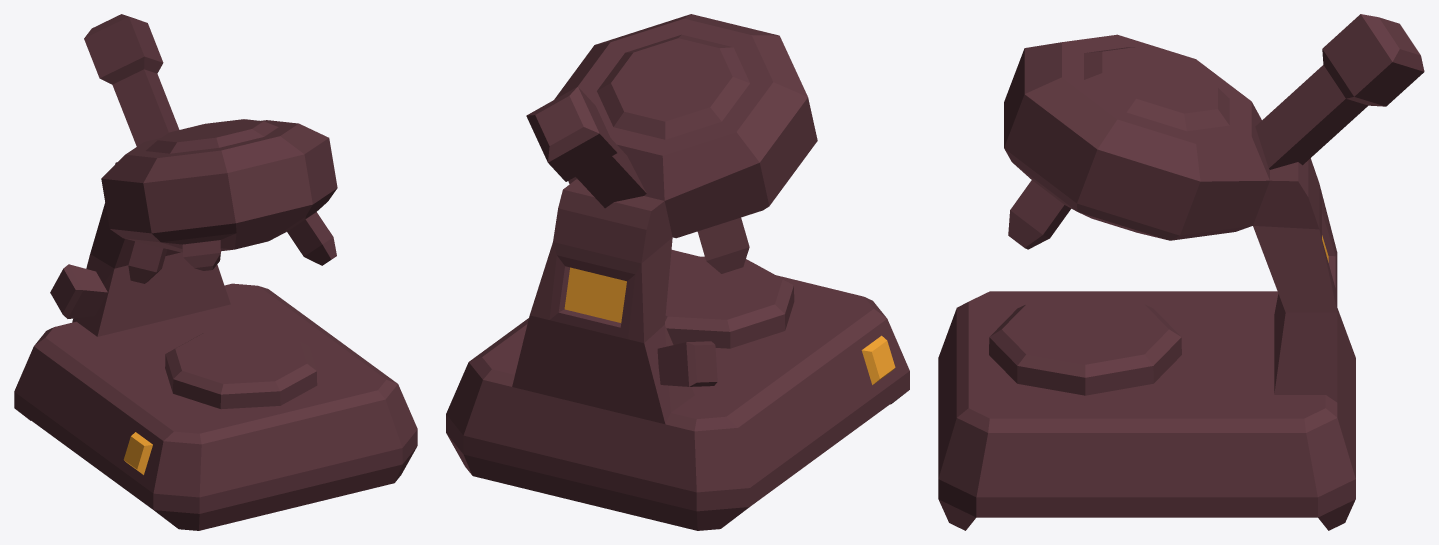
The model's file is scifi-microscope.fbx.
3 renders of one model, left to right at view 1: azimuth 30°, elevation 25°; view 2: azimuth 150°, elevation 25°; view 3: azimuth 270°, elevation 25°, orthographic. The views are drawn at different scales.
Visible parts, largest first — view 1: scifi-microscope; view 2: scifi-microscope; view 3: scifi-microscope.
Boxes of the visible parts, <box> form: scifi-microscope: <box>14,14,417,530</box>; scifi-microscope: <box>446,14,909,530</box>; scifi-microscope: <box>938,14,1424,530</box>.
Bounding box in the file's own units: 0.3981 × 0.5251 × 0.5136.
